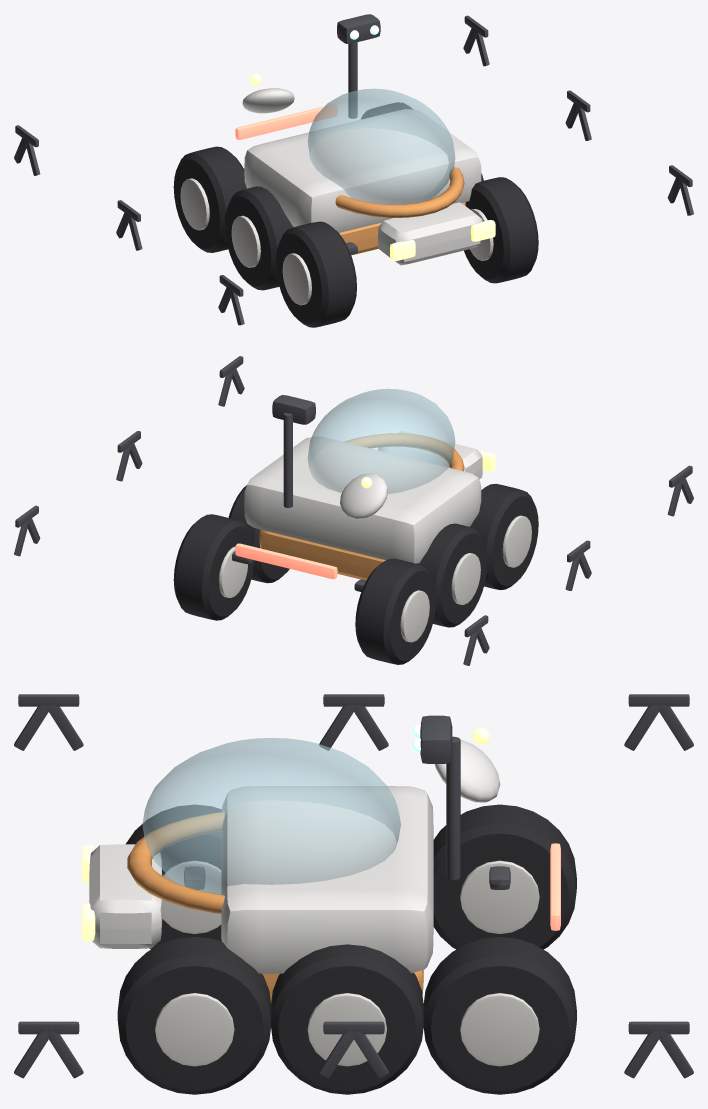
The model's file is rover.glb.
3 renders of one model, top to bottom at view 1: azimuth 30°, elevation 25°; view 2: azimuth 150°, elevation 25°; view 3: azimuth 270°, elevation 25°, orthographic. The views are drawn at different scales.
Visible parts, largest first — view 1: body, canopy, wheel_0, wheel_1, wheel_4, nose, wheel_2, canopy_rim, taillight, hubcap_4, hubcap_0, hubcap_2 (+4 smaller); view 2: body, canopy, wheel_4, wheel_5, wheel_0, wheel_2, belly, antenna_dish, canopy_rim, taillight, nose, hubcap_4 (+6 smaller); view 3: body, canopy, wheel_5, wheel_1, wheel_3, wheel_4, nose, hubcap_1.001, hubcap_5.001, canopy_rim, hubcap_4.001, wheel_0 (+24 smaller).
Boxes of the visible parts, <box> form: body: <box>244,109,481,232</box>; canopy: <box>307,88,455,204</box>; wheel_0: <box>276,221,356,327</box>; wheel_1: <box>464,177,538,283</box>; wheel_4: <box>173,146,246,252</box>; nose: <box>378,202,482,265</box>; wheel_2: <box>225,186,293,290</box>; canopy_rim: <box>335,167,464,217</box>; taillight: <box>235,104,337,139</box>; hubcap_4: <box>180,178,209,230</box>; hubcap_0: <box>282,253,311,305</box>; hubcap_2: <box>231,215,260,267</box>; body: <box>244,437,481,563</box>; canopy: <box>307,388,455,493</box>; wheel_4: <box>355,558,436,664</box>; wheel_5: <box>173,514,254,620</box>; wheel_0: <box>470,484,538,589</box>; wheel_2: <box>416,523,487,627</box>; belly: <box>259,529,385,580</box>; antenna_dish: <box>340,473,387,519</box>; canopy_rim: <box>345,433,464,471</box>; taillight: <box>235,543,337,579</box>; nose: <box>378,431,482,479</box>; hubcap_4: <box>400,590,429,642</box>; body: <box>221,786,433,973</box>; canopy: <box>142,738,400,894</box>; wheel_5: <box>423,937,576,1094</box>; wheel_1: <box>117,937,270,1094</box>; wheel_3: <box>271,944,423,1094</box>; wheel_4: <box>433,804,576,949</box>; nose: <box>89,844,162,948</box>; hubcap_1.001: <box>155,993,234,1066</box>; hubcap_5.001: <box>460,993,539,1066</box>; canopy_rim: <box>127,812,224,913</box>; hubcap_4.001: <box>460,860,539,933</box>; wheel_0: <box>126,805,221,949</box>.
Size of the model in its own units: 5.89 by 2.63 by 5.12.
